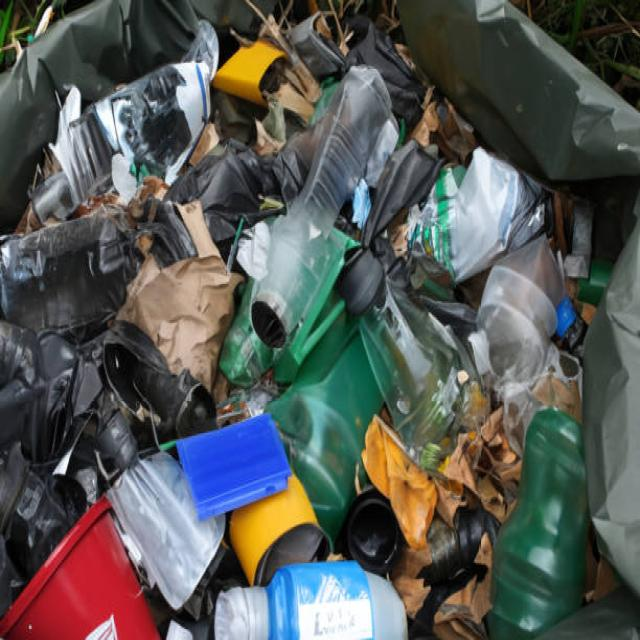plastic: (236, 252, 391, 455), (506, 434, 580, 612), (223, 580, 407, 636), (112, 478, 209, 584)
